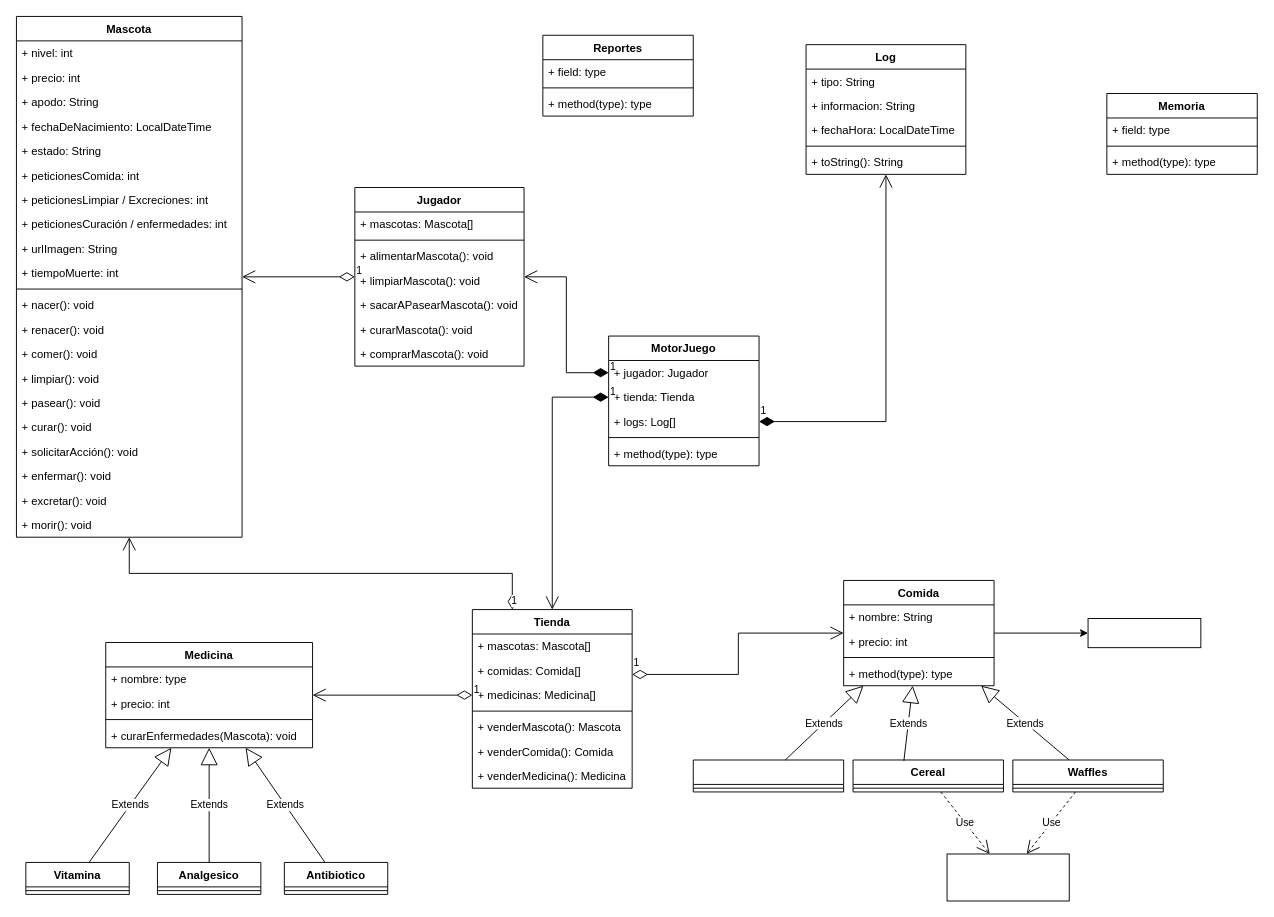
This 1274x917 diagram has some shape labels left out. Each missing label, with the centre of its shape:
Abstracta: [1144,633]
Manzana: [768,775]
«interface» AfectarPeticiones: [1007,877]
